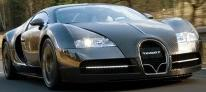front_view: (53, 29, 205, 80)
headlight: (72, 33, 118, 52)
side_glass: (27, 13, 49, 29)
